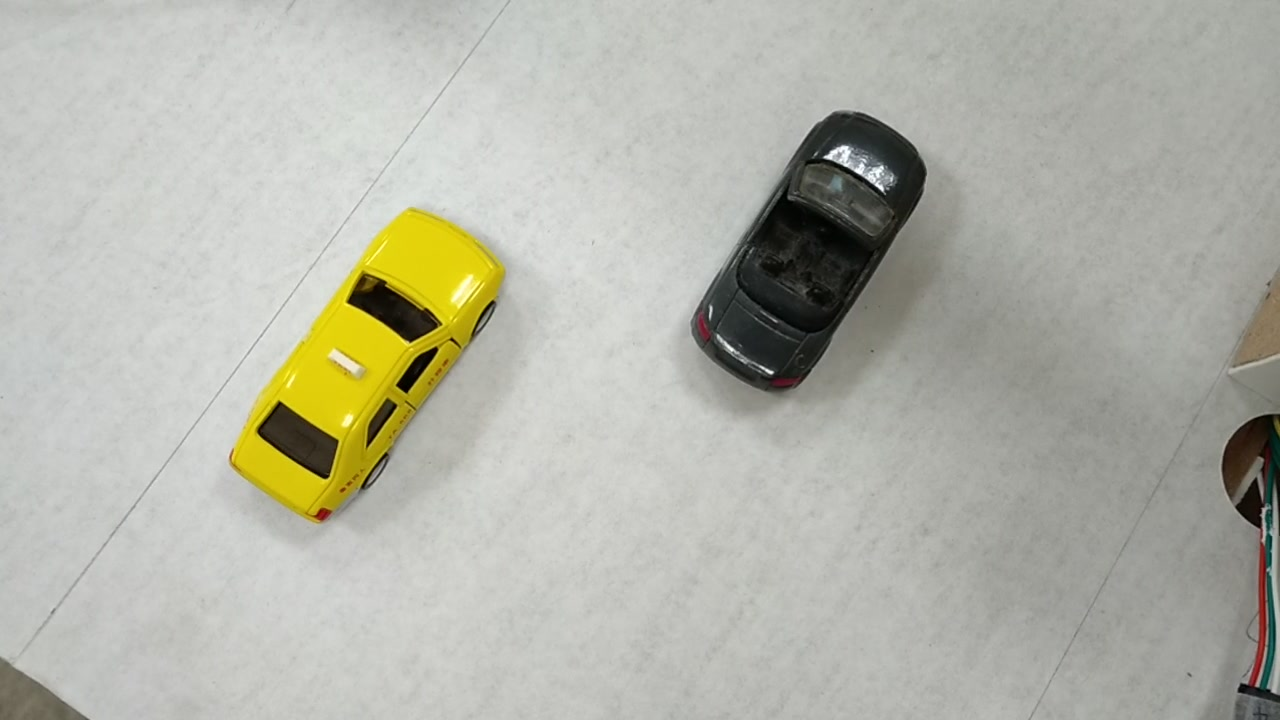car: (227, 200, 508, 525), (690, 107, 927, 400)
